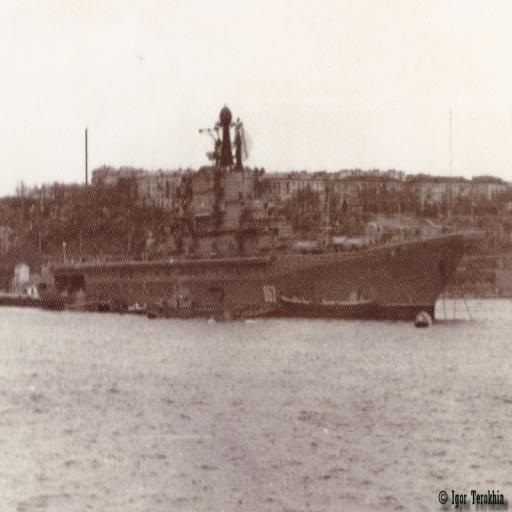Portanaves: (31, 83, 482, 349)
